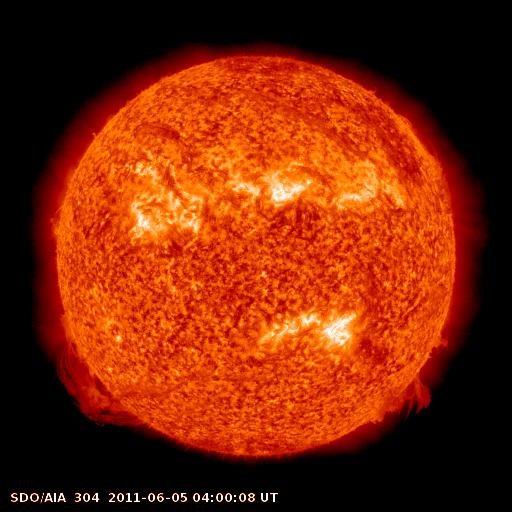prominence: (44, 308, 166, 434), (365, 369, 436, 429), (420, 328, 456, 358), (48, 198, 66, 245)
